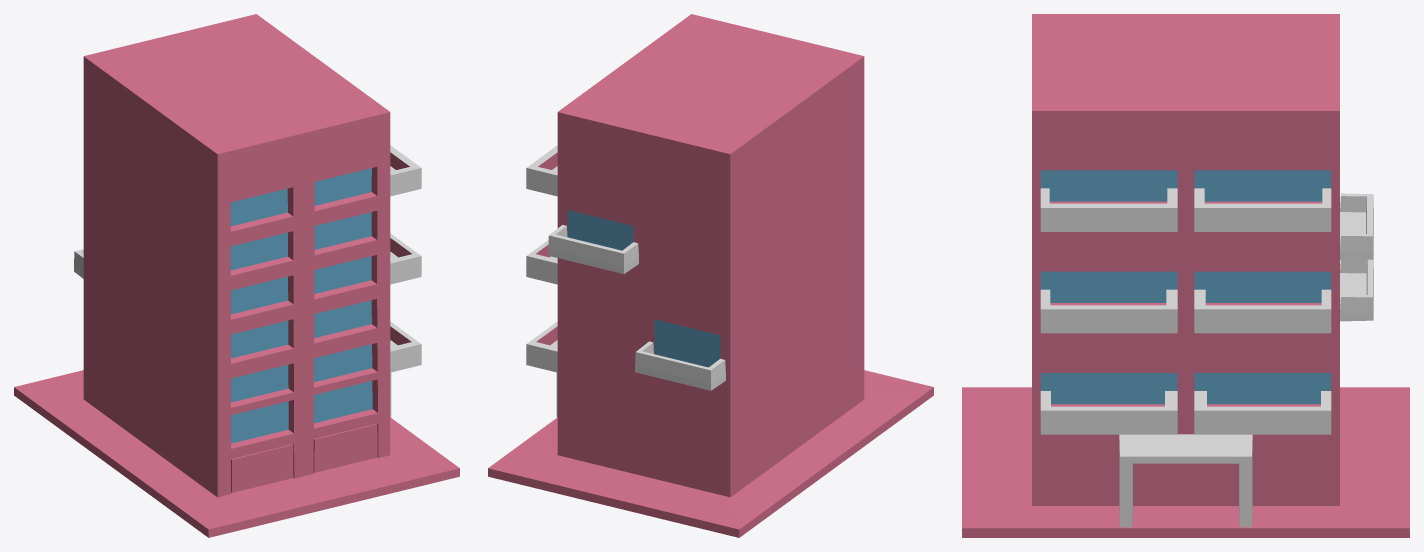
The model's file is pinkRoof.fbx.
3 renders of one model, left to right at view 1: azimuth 30°, elevation 25°; view 2: azimuth 150°, elevation 25°; view 3: azimuth 270°, elevation 25°, orthographic. The views are drawn at different scales.
Parts seen in each view (by area): view 1: house39; view 2: house39; view 3: house39.
Part boxes in pixels (box(x1,y1,x2,y2)): house39: box(14, 14, 459, 537); house39: box(488, 14, 933, 537); house39: box(962, 14, 1409, 537).
Size of the model in its own units: 578 by 774 by 775.
